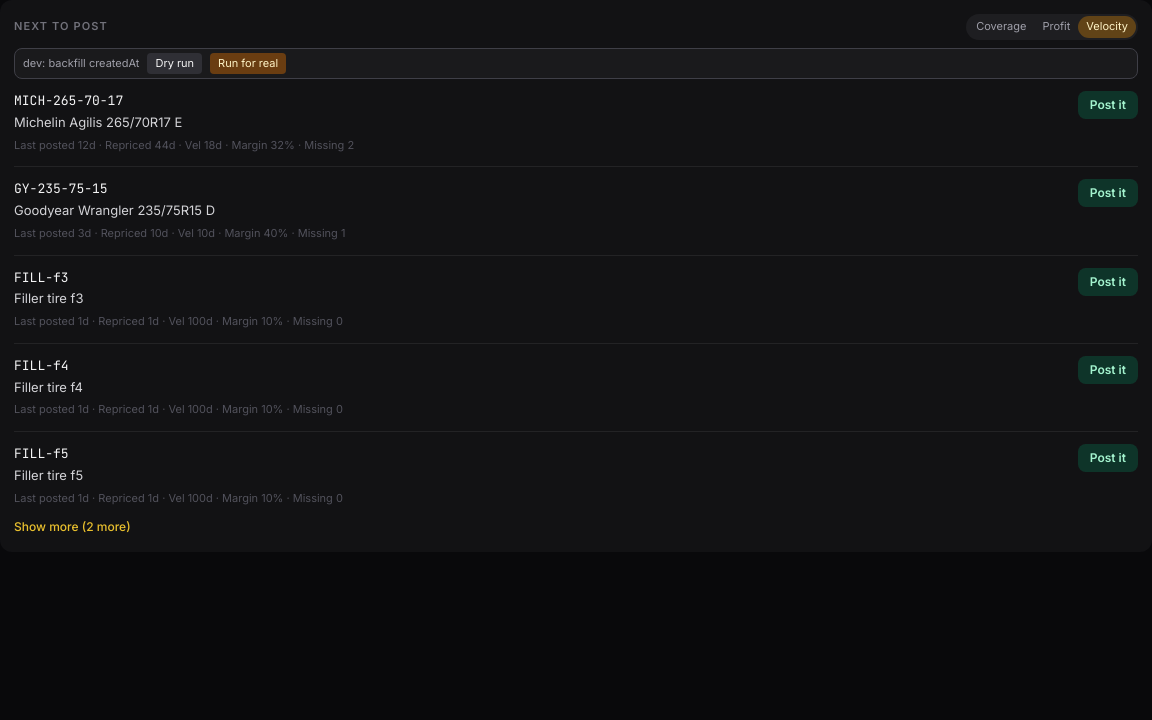
Test: NextToPostSurface › Escape closes the modal
Click the button "Show more (2 more)" at (72, 527), box 14,519 -> 131,535
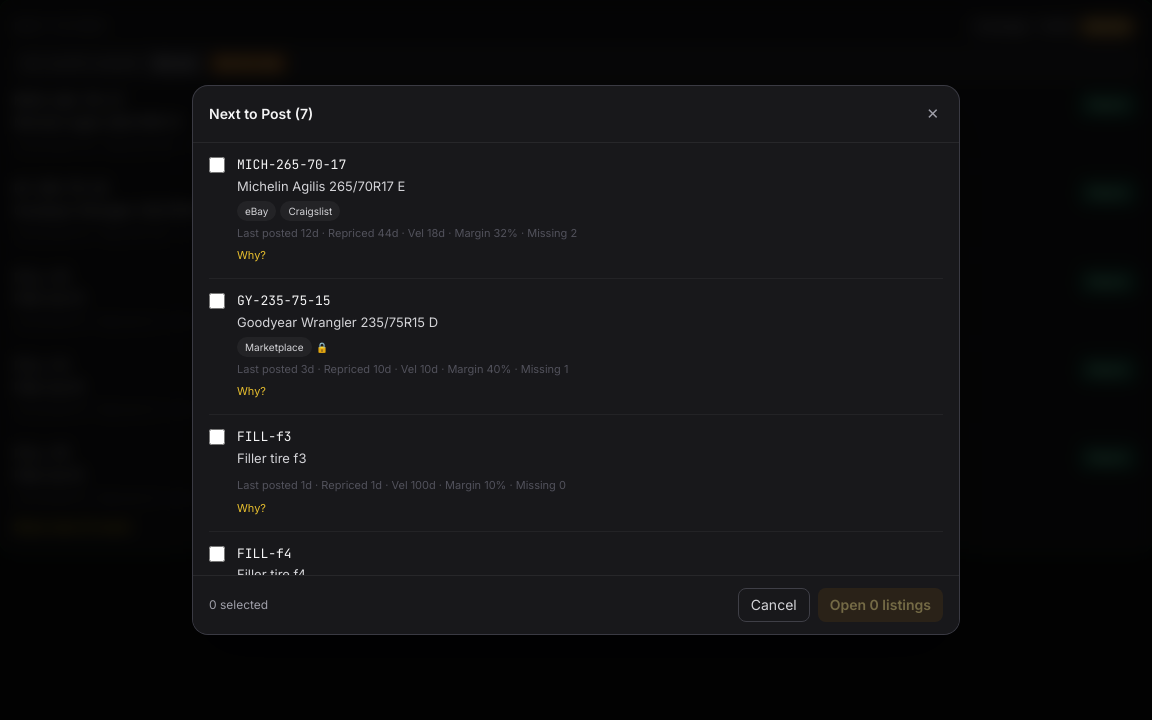
Press Escape
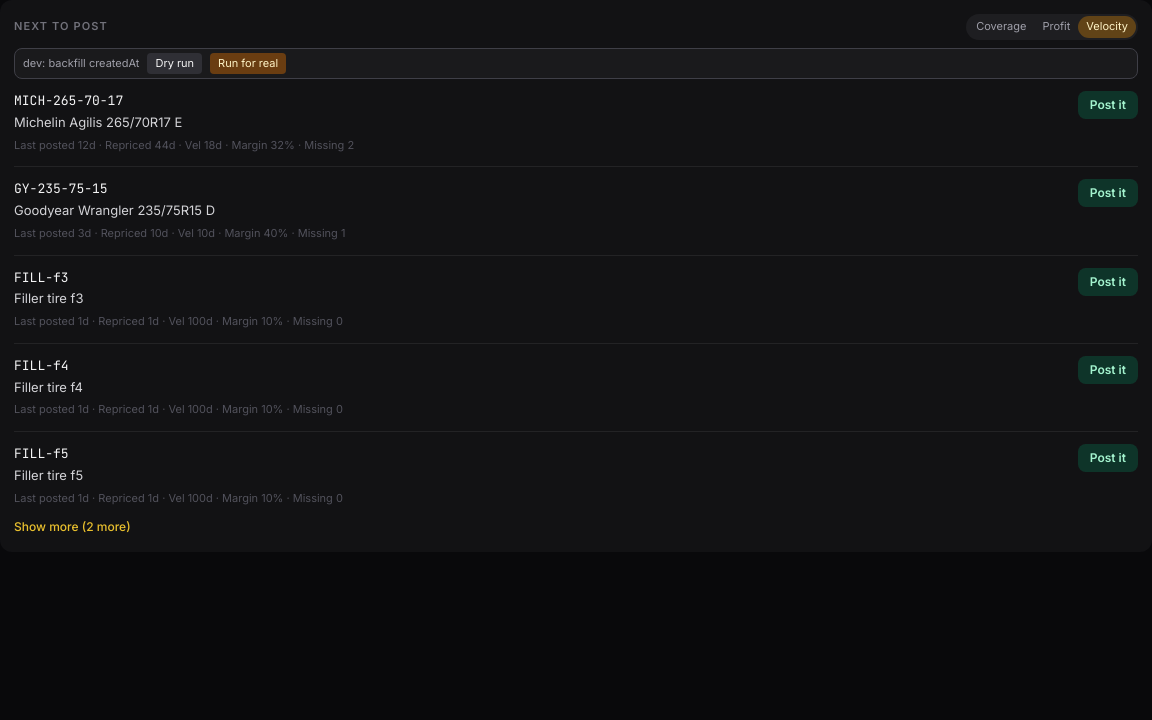
Check: the dialog is gone
